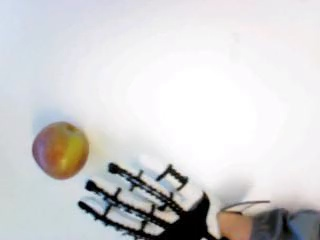apple: (31, 121, 89, 179)
hand: (79, 155, 226, 239)
